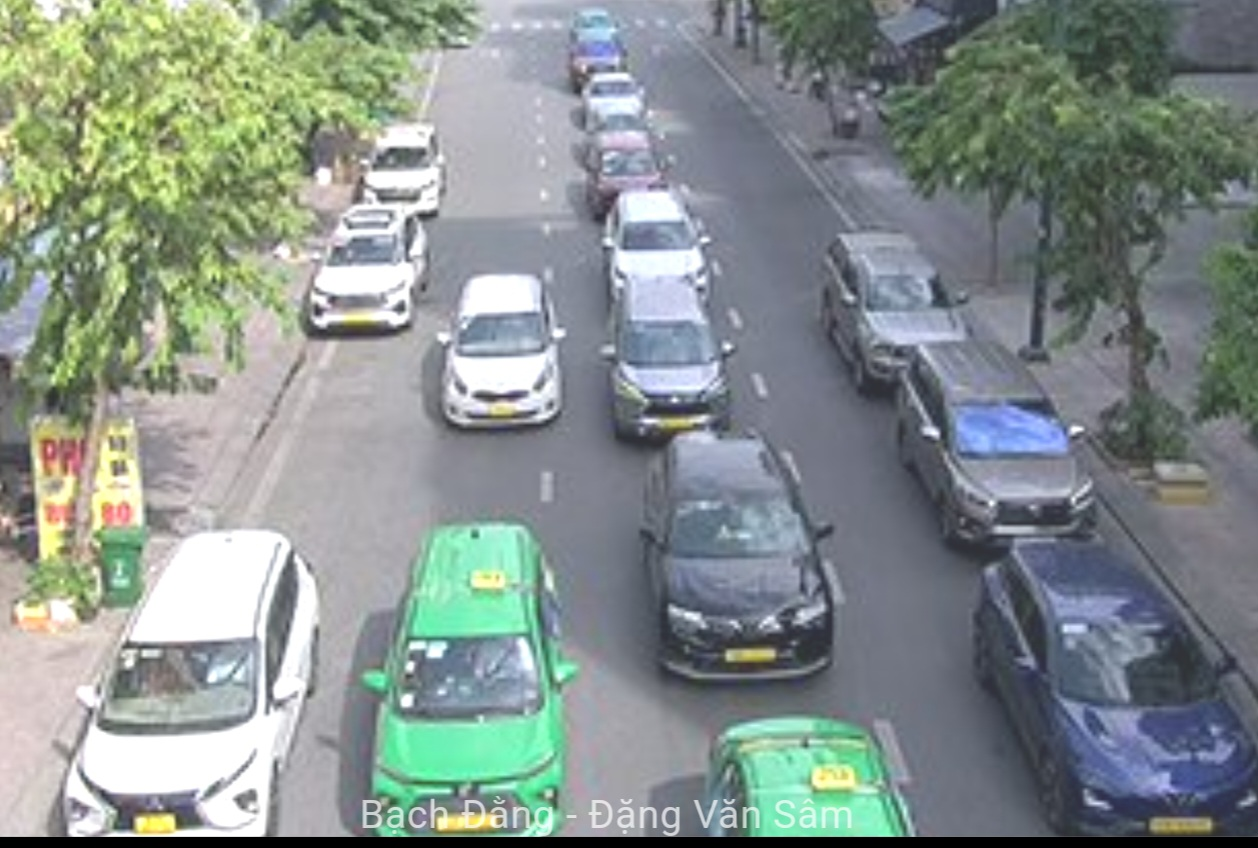car: (971, 552, 1258, 847), (104, 537, 307, 848), (394, 528, 567, 848), (636, 440, 832, 682), (894, 347, 1109, 550), (706, 718, 916, 848), (824, 237, 967, 397), (609, 282, 732, 440), (442, 275, 562, 430), (306, 208, 429, 333), (601, 197, 714, 288), (355, 122, 442, 214), (585, 130, 667, 214), (578, 75, 648, 121), (570, 39, 628, 77)
